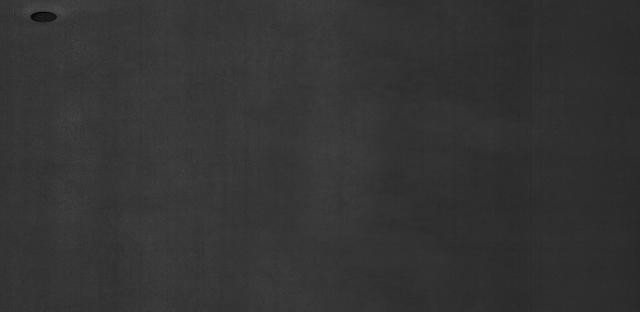punching_hole: (23, 6, 66, 29)
